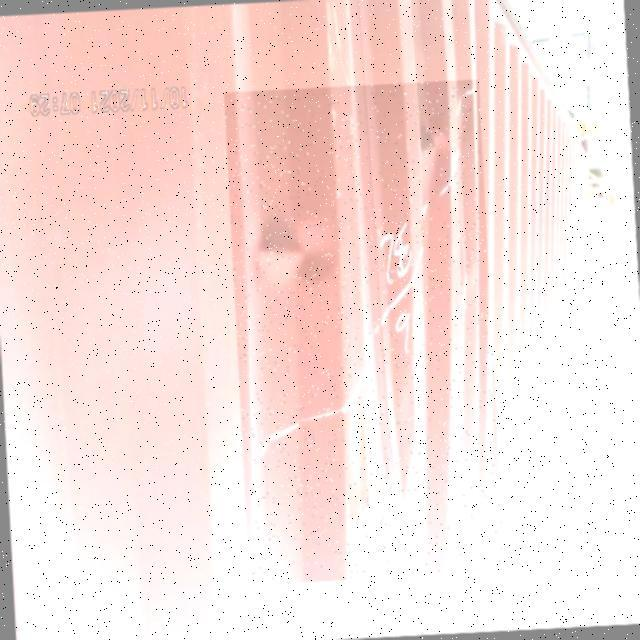Dent: (224, 79, 504, 585)
